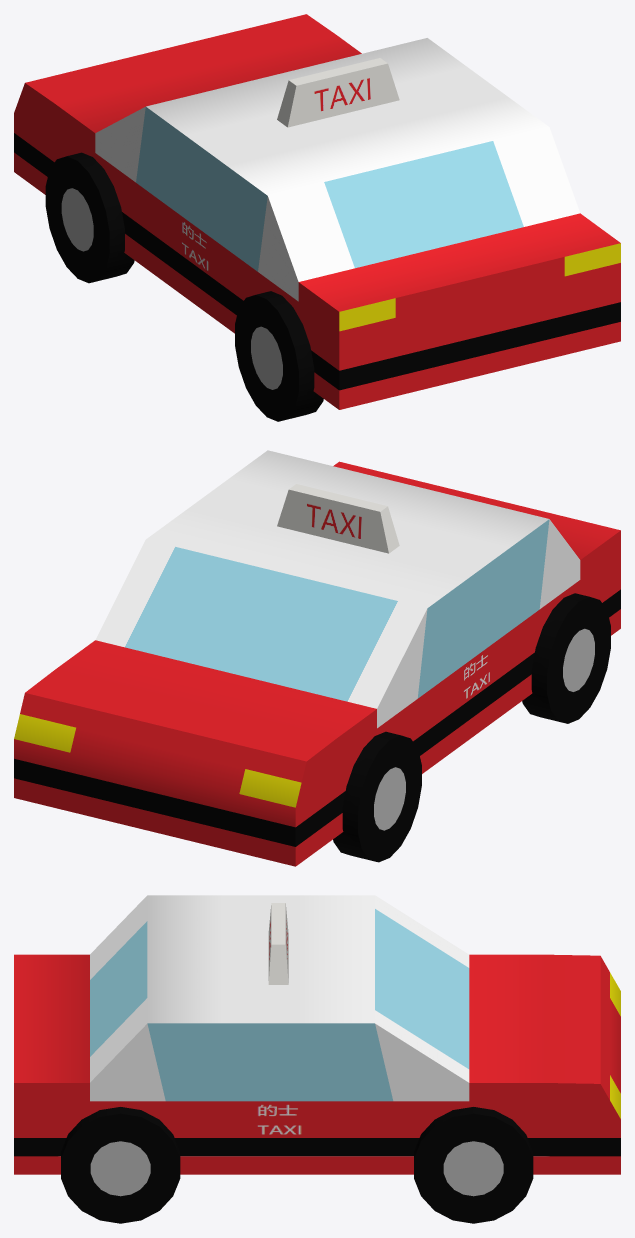
Rendered from 出租車紅.fbx.
3 views of the same model, one above another, from view 1: azimuth 30°, elevation 25°; view 2: azimuth 150°, elevation 25°; view 3: azimuth 270°, elevation 25° (orthographic). The views are drawn at different scales.
Visible parts, largest first — view 1: taxi(red), 的士標示牌; view 2: taxi(red), 的士標示牌; view 3: taxi(red), 的士標示牌.
Boxes of the visible parts, <box> form: taxi(red): <box>14,14,620,421</box>; 的士標示牌: <box>277,58,399,127</box>; taxi(red): <box>14,450,620,866</box>; 的士標示牌: <box>277,484,399,553</box>; taxi(red): <box>14,895,620,1223</box>; 的士標示牌: <box>268,903,288,984</box>.
Bounding box in the file's own units: 16.62 × 12.48 × 30.
2 materials, 2 textured.
